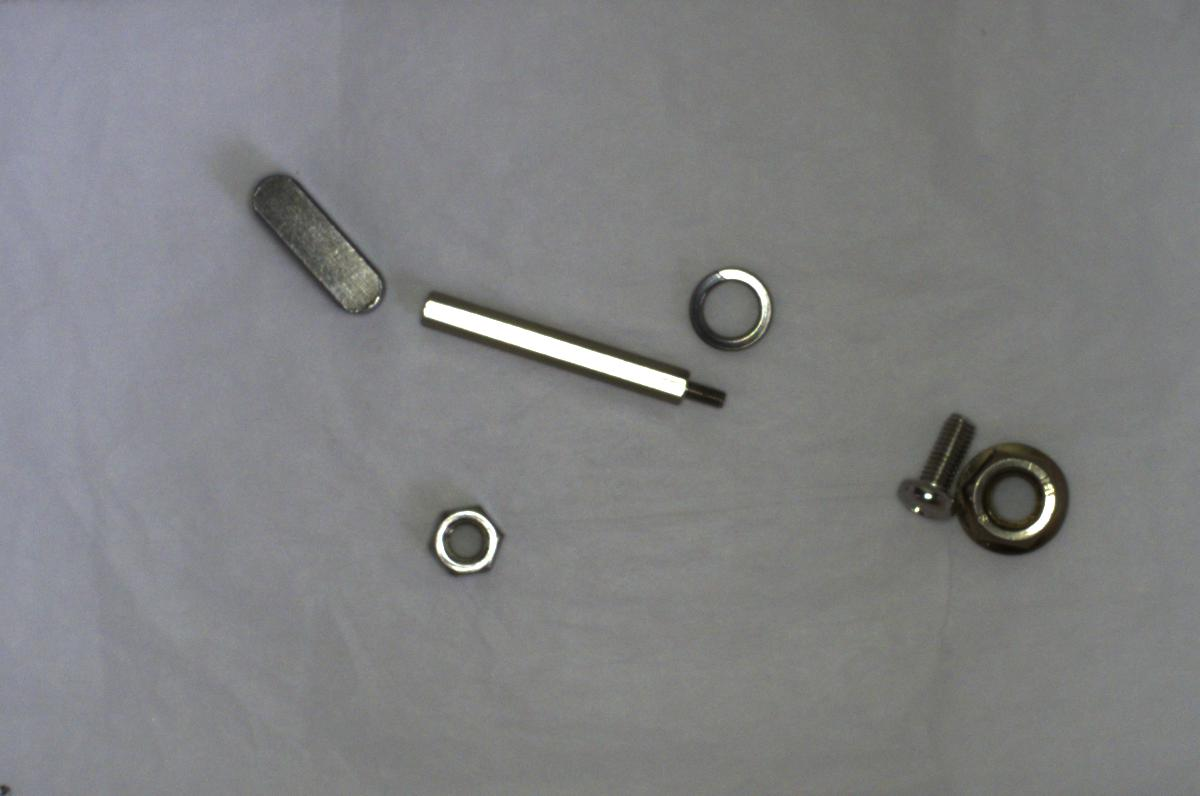Flange nut: (955, 425, 1077, 561)
Hexagon nut: (425, 495, 511, 581)
Hexagonal steel column: (417, 289, 726, 419)
Keybar: (245, 168, 394, 320)
Round head screw: (890, 405, 975, 522)
Spring washer: (684, 262, 784, 353)
